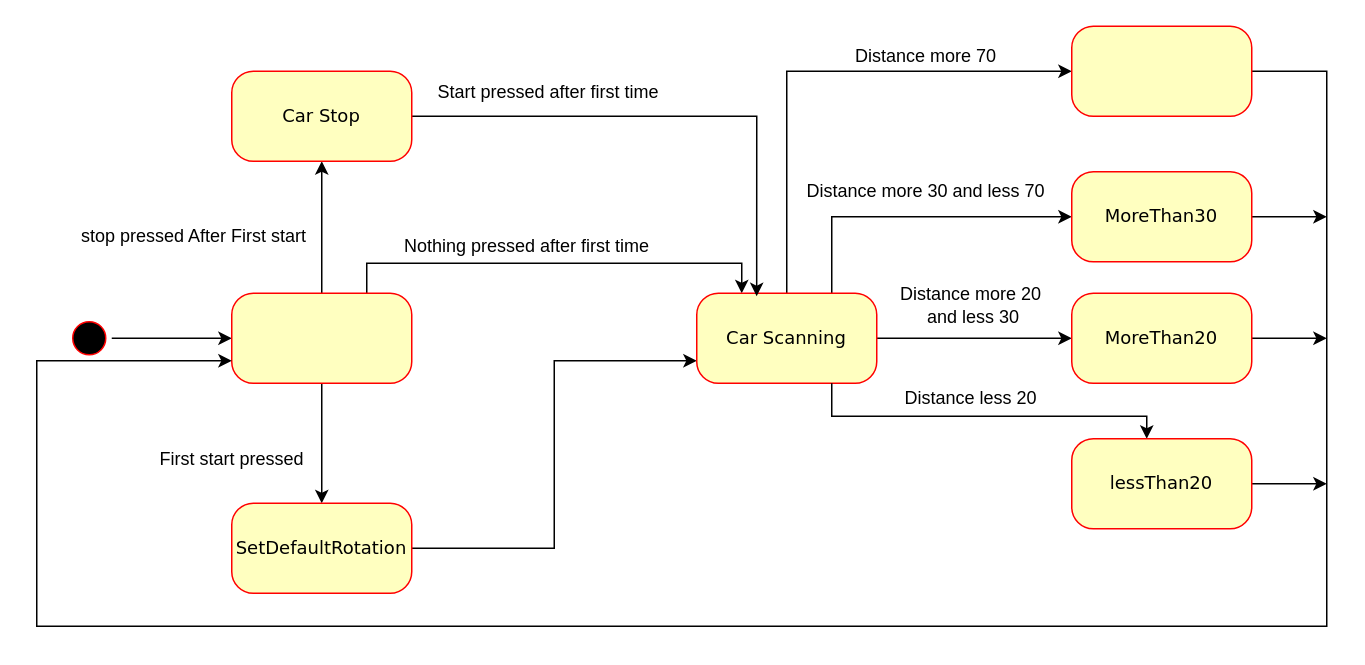
Image size: 1365x665. Some labels were removed from this diagram. Here are the shapes that lost their labels. From the top down, the centre of each, then its label:
[1161,70]: MoreThan70
[321,337]: KP_checking
